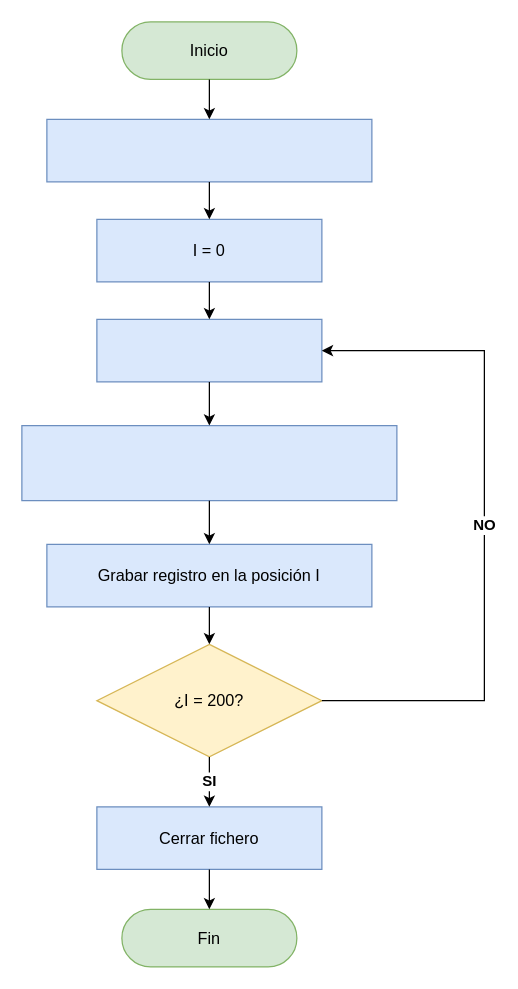
Image size: 518x989. Some labels were removed from this diagram. Each missing label, with the centre of its shape:
Abrir fichero relativo clientes.rel: point 209,150
CLAVE = 0, NOMBRE = espacios, CANTIDAD = 0: point 209,462
I = I + 1: point 209,350
